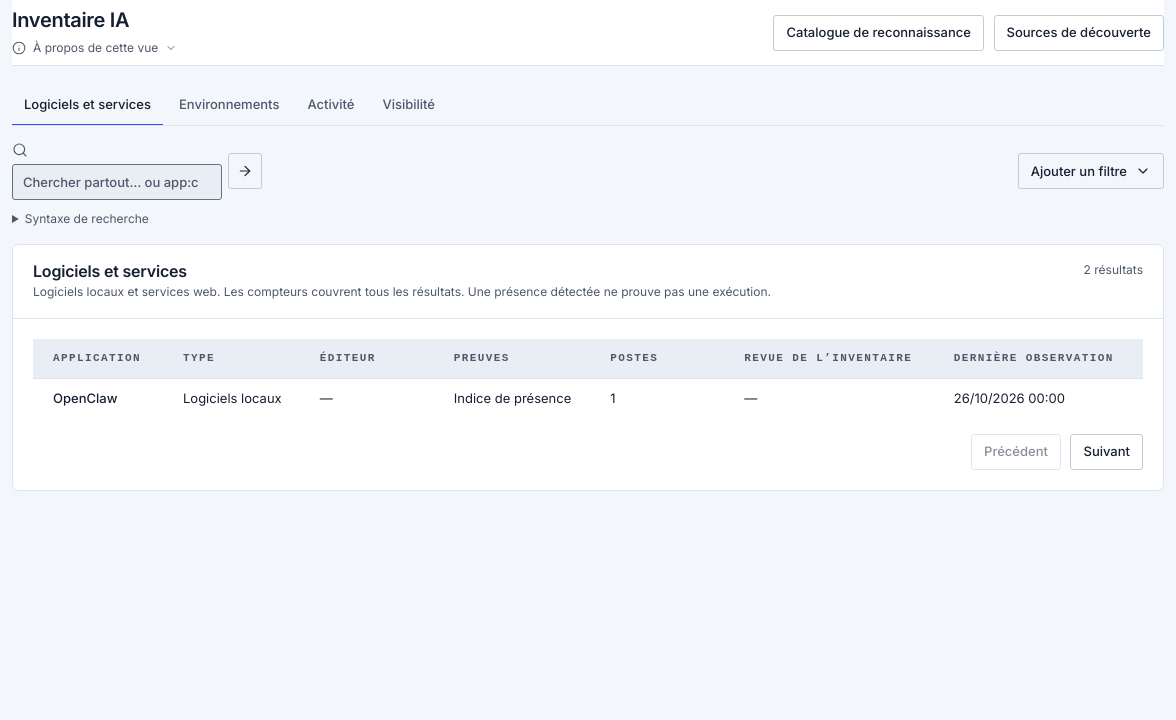
Test case: Unified discovery hub › requests each page from the server instead of retaining a growing row inventory
Expected: the button "OpenClaw" is shown, 53,389 -> 117,408
Click the button "Suivant".
click(1107, 452)  # box 1070,434 -> 1143,470
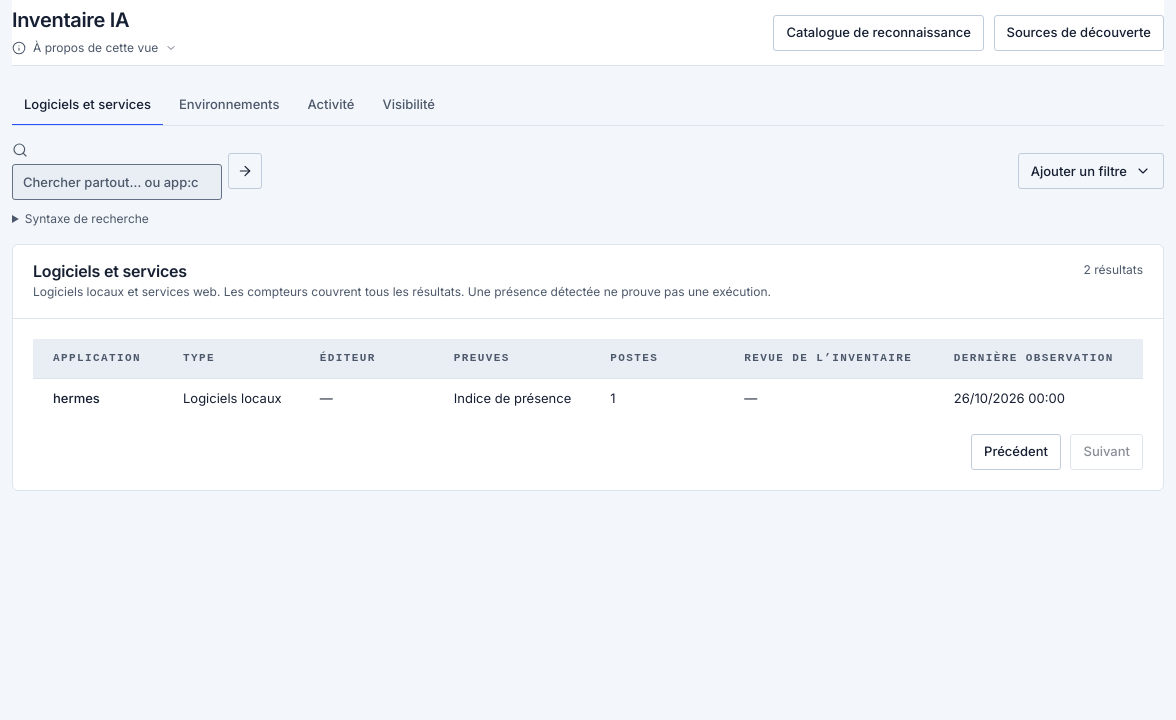
Result: the button "hermes" is shown at 53,389 -> 100,408
Result: the button "OpenClaw" is gone
